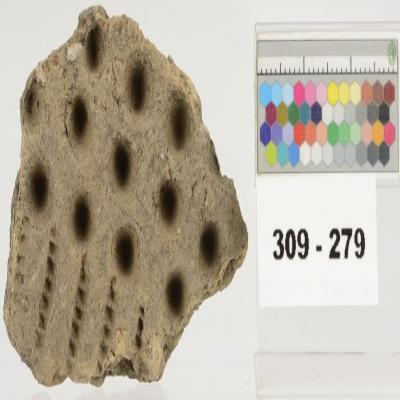archeology: (1, 6, 249, 388)
